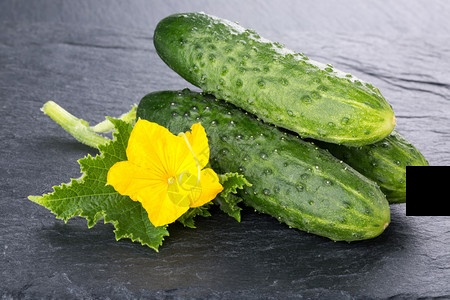cucumber: (154, 10, 395, 129)
cucumber_plant: (30, 105, 222, 245)
